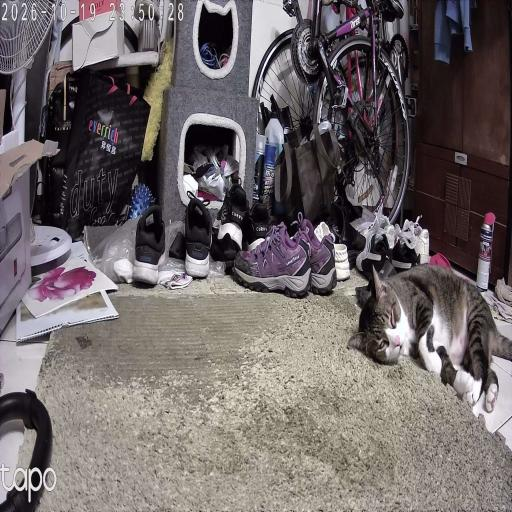cat: (359, 265, 500, 370)
